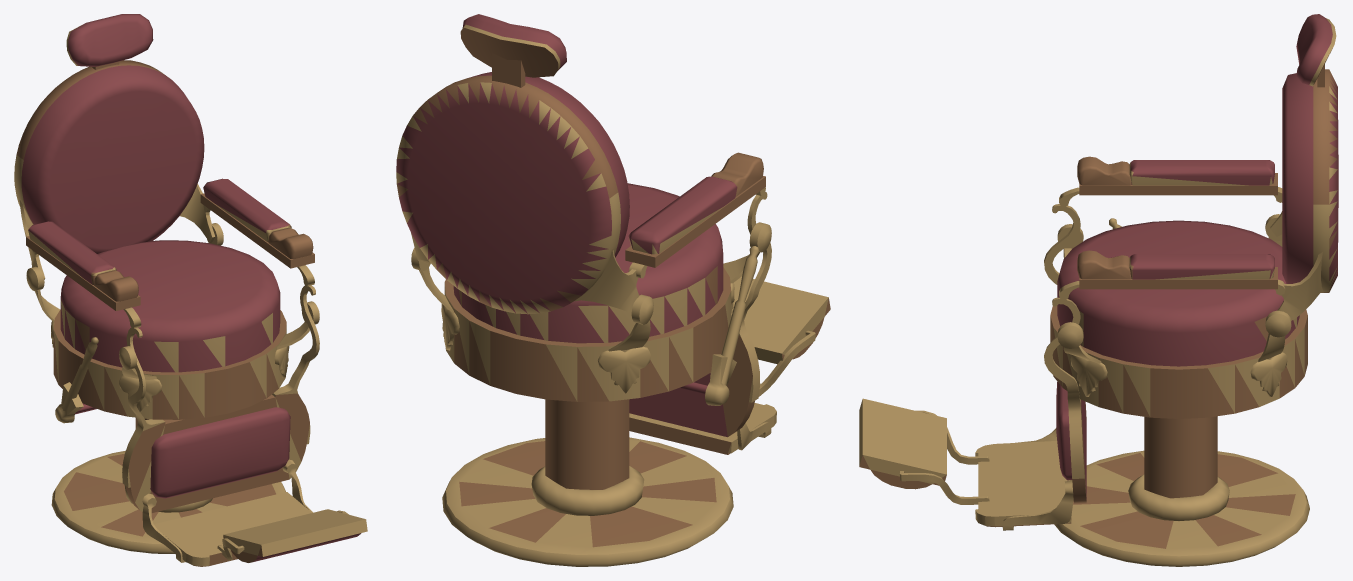
Rendered from polyhaven_barber_chair.glb.
The picture shows the model from 3 angles, left to right: view 1: azimuth 30°, elevation 25°; view 2: azimuth 150°, elevation 25°; view 3: azimuth 270°, elevation 25°; orthographic projection. The views are drawn at different scales.
Visible parts, largest first — view 1: BarberShopChair_01; view 2: BarberShopChair_01; view 3: BarberShopChair_01.
Boxes of the visible parts, x1=… form: BarberShopChair_01: x1=14, y1=14, x2=367, y2=566; BarberShopChair_01: x1=396, y1=14, x2=830, y2=566; BarberShopChair_01: x1=859, y1=14, x2=1338, y2=566.
Size of the model in its own units: 0.7565 by 1.49 by 1.33.
